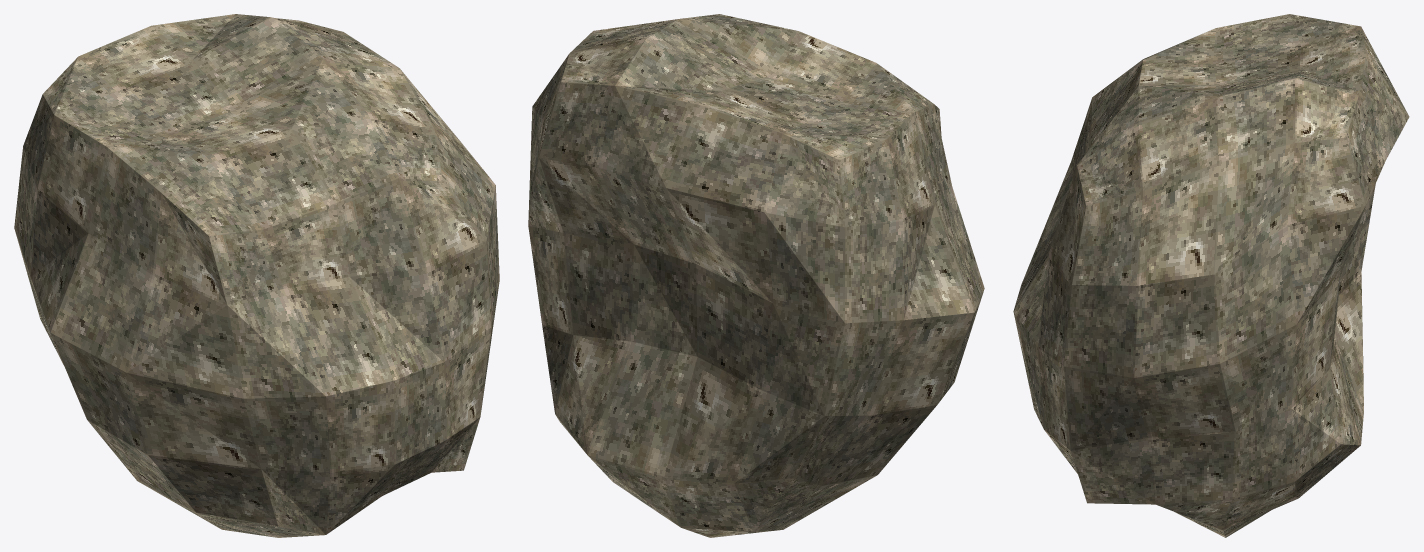
The model's file is asteroid_all_mammoth_01_l2.fbx.
3 renders of one model, left to right at view 1: azimuth 30°, elevation 25°; view 2: azimuth 150°, elevation 25°; view 3: azimuth 270°, elevation 25°, orthographic. The views are drawn at different scales.
Visible parts, largest first — view 1: mesh_node; view 2: mesh_node; view 3: mesh_node.
Boxes of the visible parts, <box> form: mesh_node: <box>14,14,499,537</box>; mesh_node: <box>528,14,984,537</box>; mesh_node: <box>1013,14,1409,537</box>.
Size of the model in its own units: 299 by 337 by 257.
